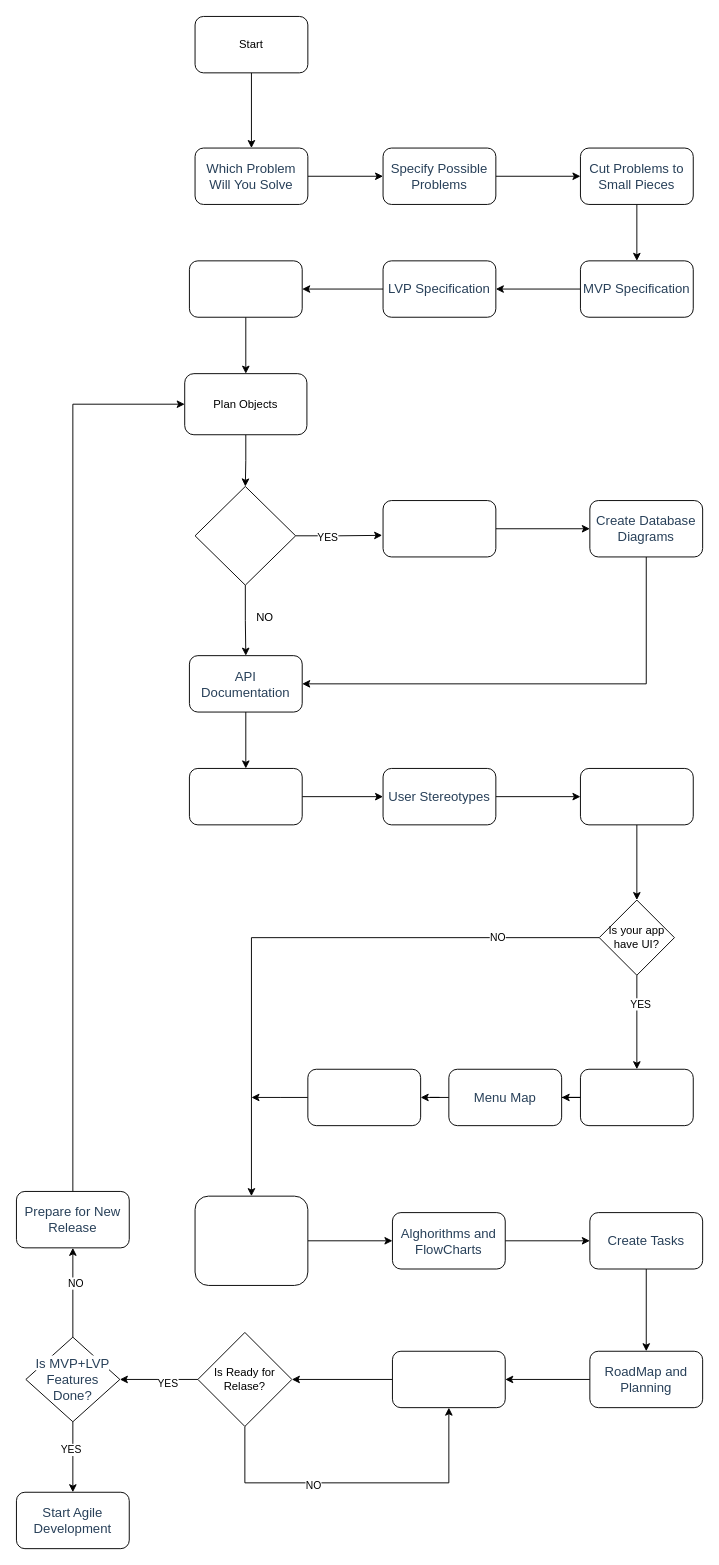
The diagram is 719 pixels wide and 1565 high, and some of its shapes have lost their labels. The shapes that lost their labels are listed below. From the top down, each one's box as (x1, y1, x2, y2) in pixels, then its label:
(188, 260, 302, 317): Tech Stack
(194, 486, 296, 585): Is There State on Application?
(382, 500, 496, 557): Plan Database
(188, 768, 302, 825): Topology
(580, 768, 693, 825): User Scenerios
(307, 1068, 421, 1126): Wireframe
(580, 1068, 693, 1126): User Storymaps
(194, 1195, 308, 1285): Standarts, Methods, Directories, Structures, Scaffolding, Protocols
(392, 1350, 505, 1408): Coding
